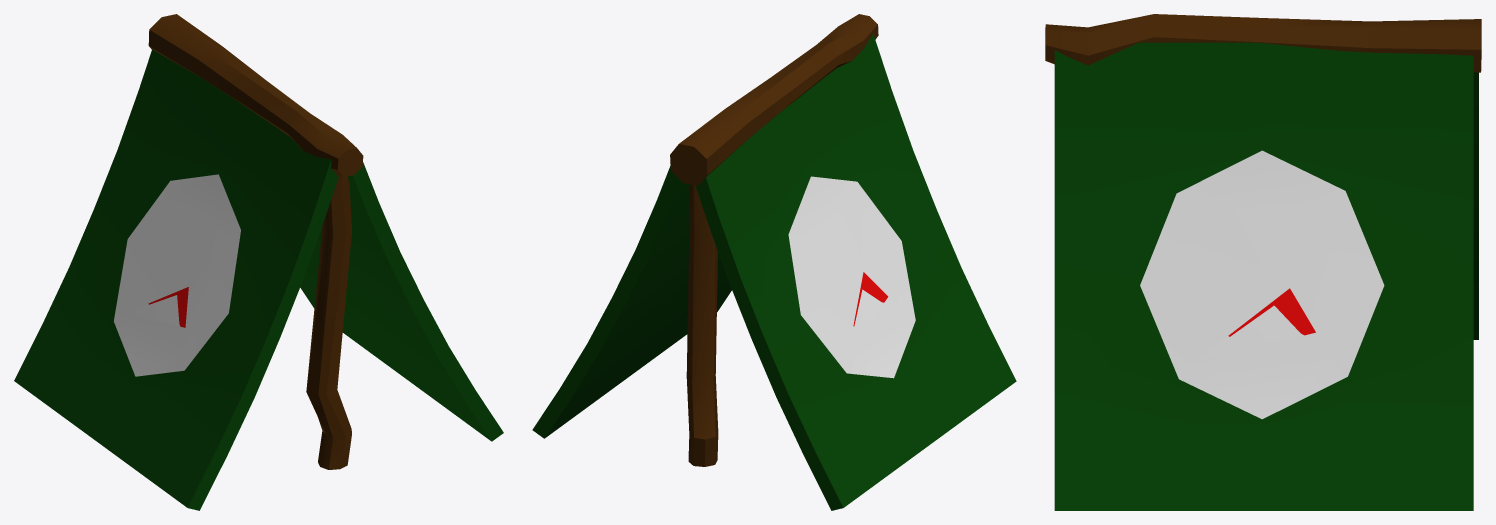
File: Tente.fbx
3 renders of one model, left to right at view 1: azimuth 30°, elevation 25°; view 2: azimuth 150°, elevation 25°; view 3: azimuth 270°, elevation 25°, orthographic. The views are drawn at different scales.
Visible parts, largest first — view 1: TenteConstrution; view 2: TenteConstrution; view 3: TenteConstrution.
Part boxes in pixels (left/top/right/bottom): TenteConstrution: left=14, top=14, right=503, bottom=510; TenteConstrution: left=532, top=14, right=1016, bottom=510; TenteConstrution: left=1045, top=14, right=1481, bottom=510.
Size of the model in its own units: 200 by 205 by 199.
